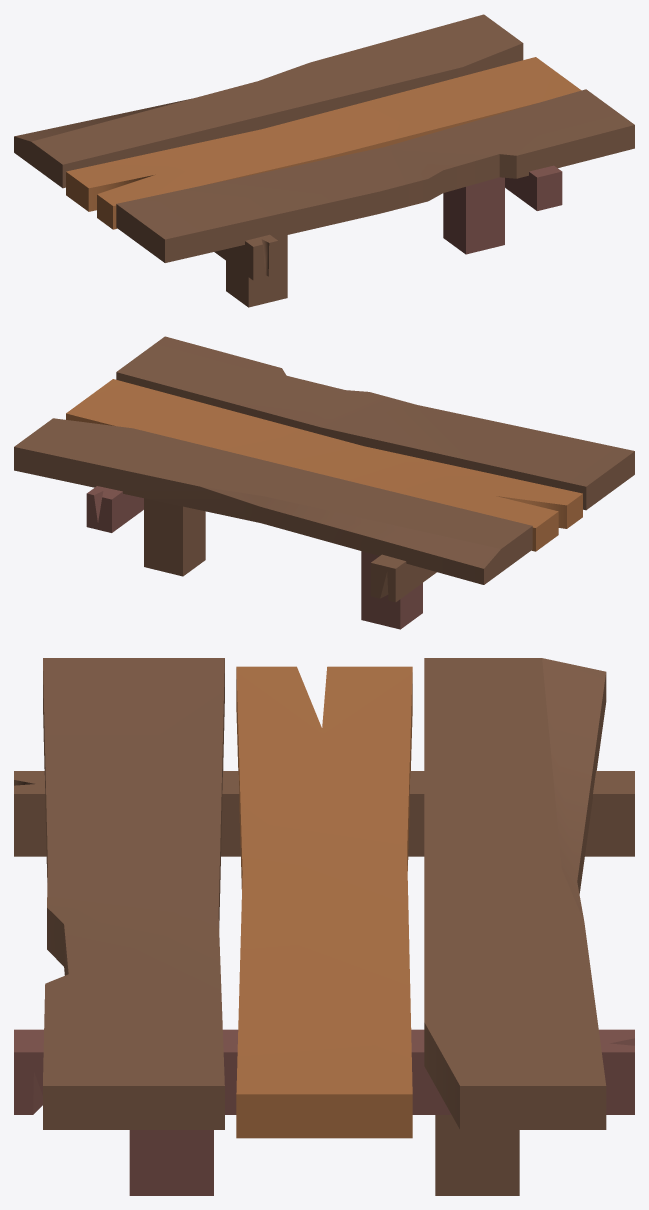
Rendered from Wooden_Table.fbx.
The picture shows the model from 3 angles, top to bottom: view 1: azimuth 30°, elevation 25°; view 2: azimuth 150°, elevation 25°; view 3: azimuth 270°, elevation 25°; orthographic projection. The views are drawn at different scales.
Parts seen in each view (by area): view 1: 3-Table; view 2: 3-Table; view 3: 3-Table.
Part boxes in pixels (left/top/right/bottom): 3-Table: left=14, top=14, right=634, bottom=307; 3-Table: left=14, top=336, right=634, bottom=629; 3-Table: left=14, top=658, right=634, bottom=1195.
Bounding box in the file's own units: 2.4 × 1.47 × 0.5419.
